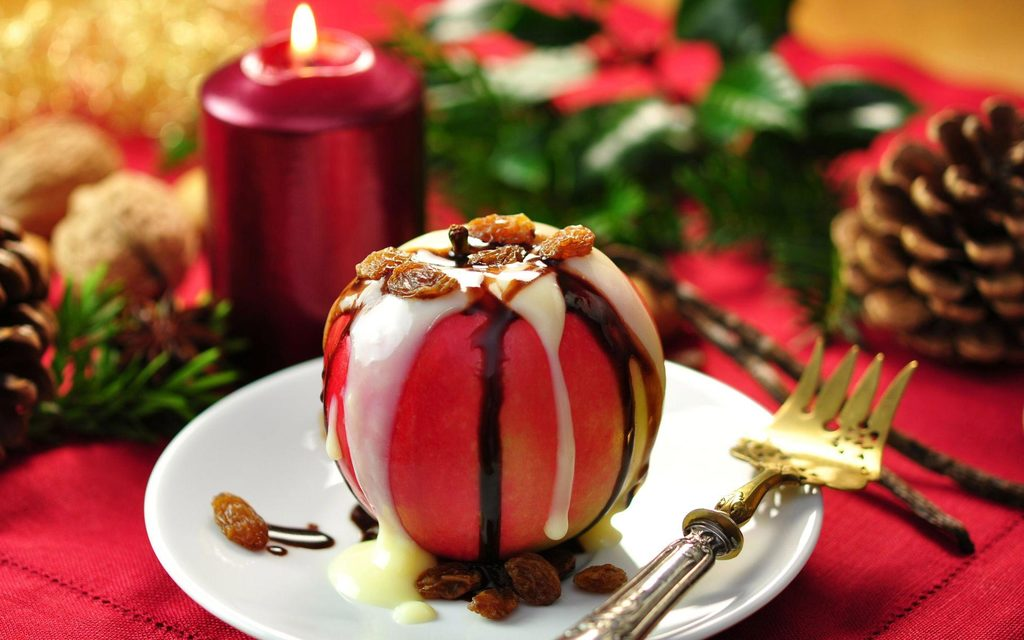Apple: (316, 227, 657, 595)
